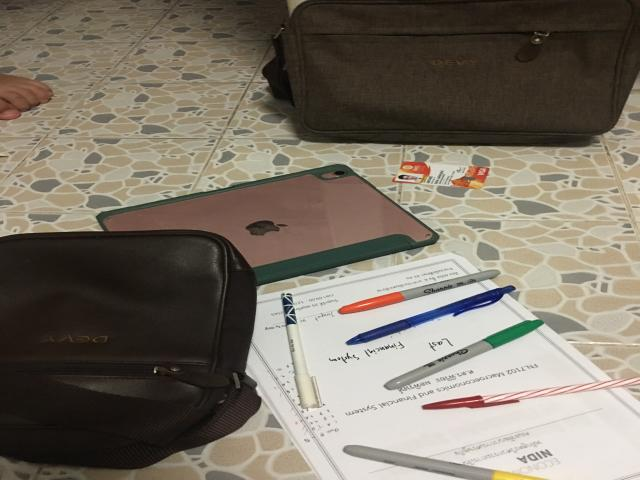Pen: (383, 320, 543, 390), (347, 286, 513, 345), (343, 445, 545, 480), (338, 270, 498, 314), (422, 378, 638, 410), (282, 293, 322, 409)
paper: (197, 253, 638, 480)
